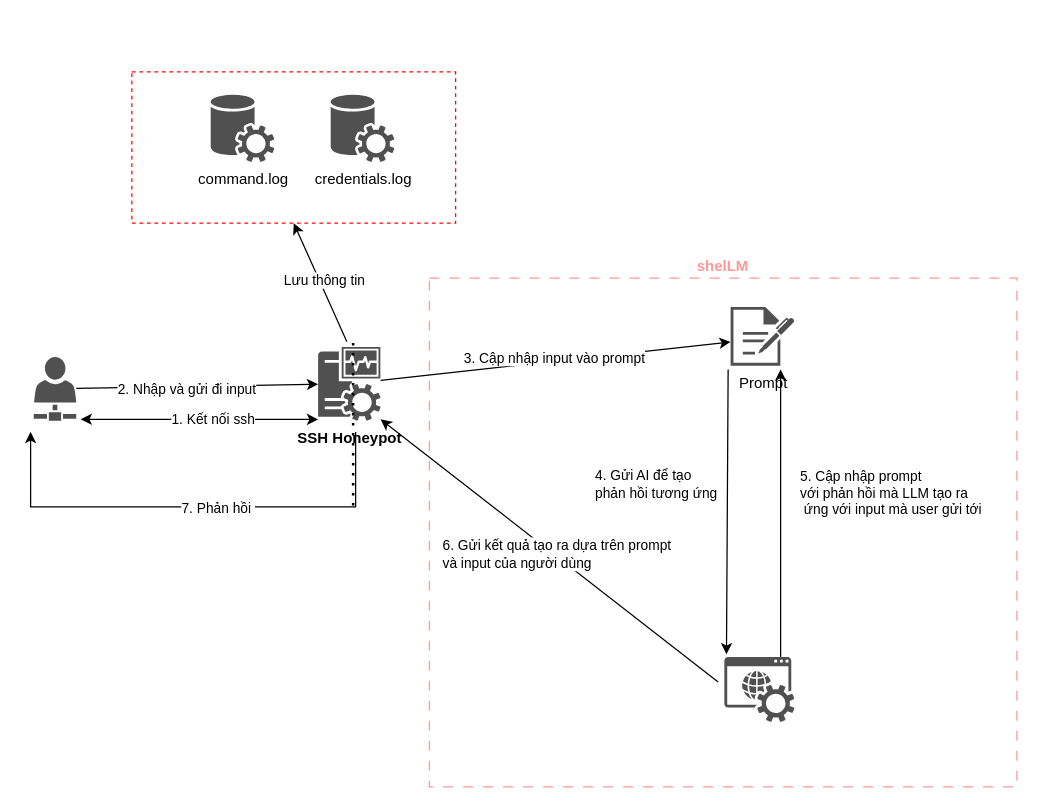
Some shapes in this 1040 by 809 pixel diagram are drawn without their labels. The box of each missing label's shape, as (x1, y1, x2, y2) in pixels:
LLM: (724, 656, 794, 721)
Logging Files: (131, 71, 456, 223)
User: (33, 356, 76, 420)
